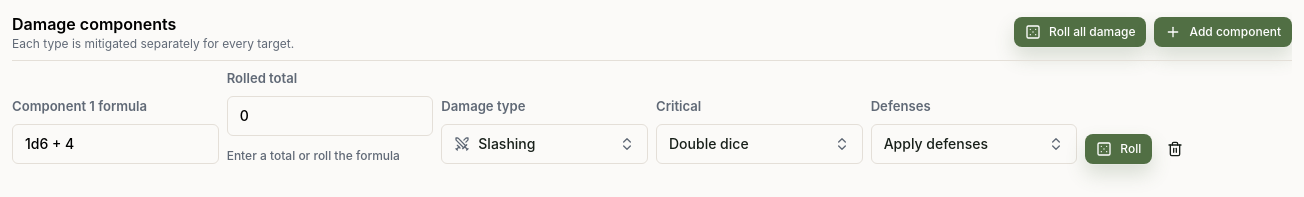
Test case: DamageComponentEditor › marks an edited total as a manual override
Replace the text in the number field labelled "Rolled total" with "17": (330, 116) x1=227 y1=96 x2=433 y2=136
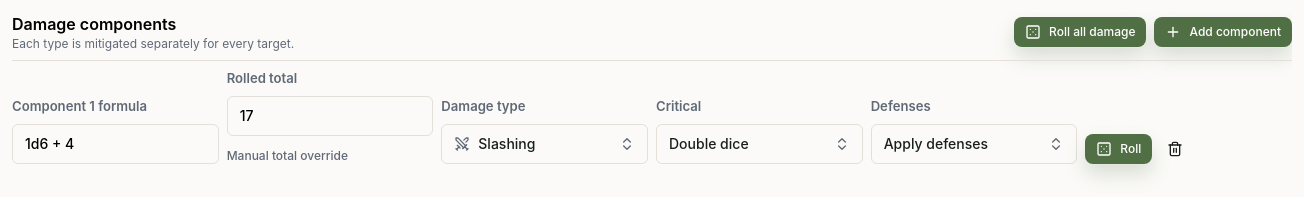
expect the text "Manual total override" is shown: met, box x1=227 y1=148 x2=348 y2=163
